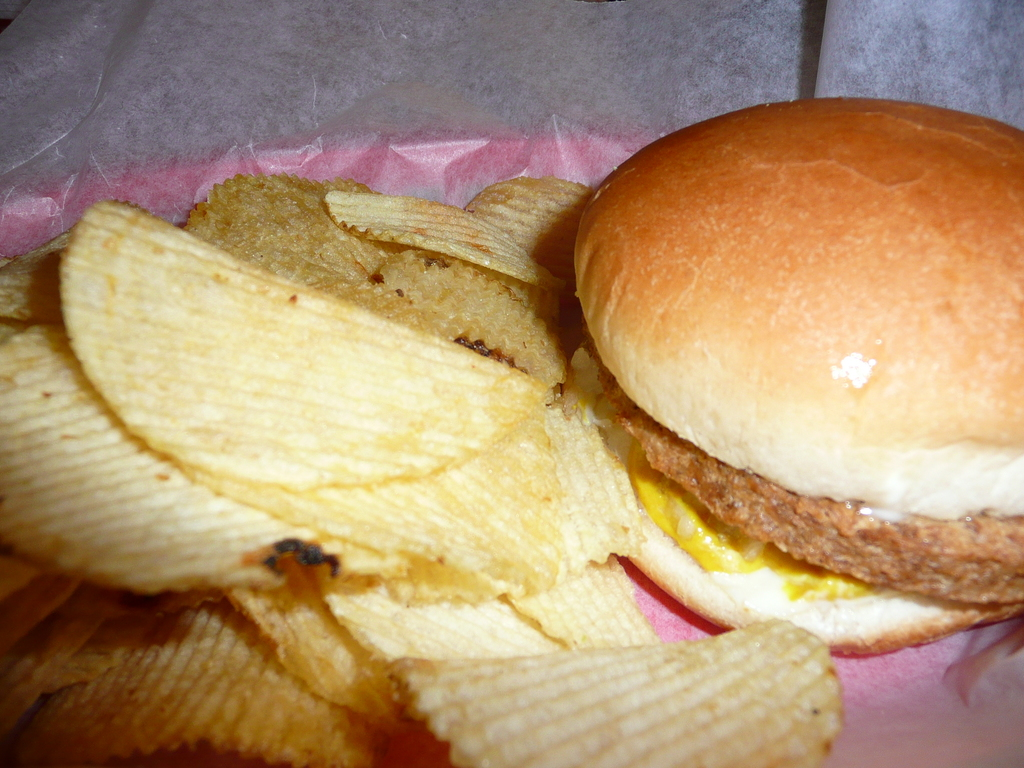Hamburger: (569, 96, 1023, 658)
